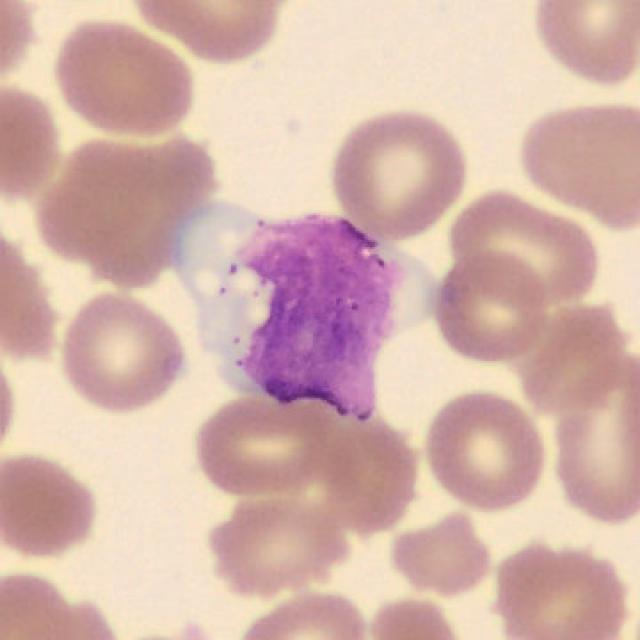Linfocito atipico: (176, 204, 430, 421)
